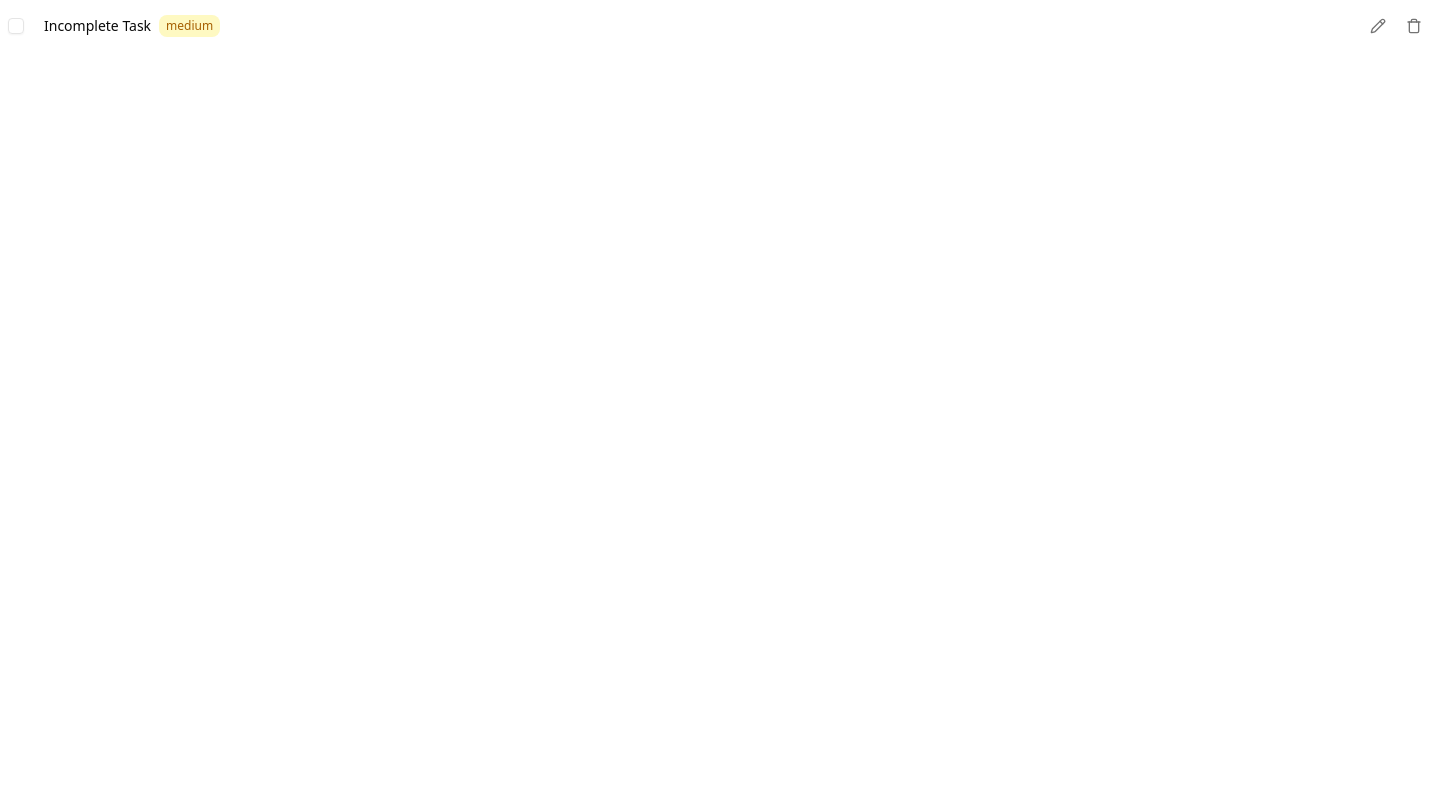
Test: TodoItem Component › Interaction › should open a confirmation dialog when delete button is clicked
# The delete button is clicked
Click the button with test id "delete-todo-trigger".
click(1414, 26)  # box [1396,8,1432,44]
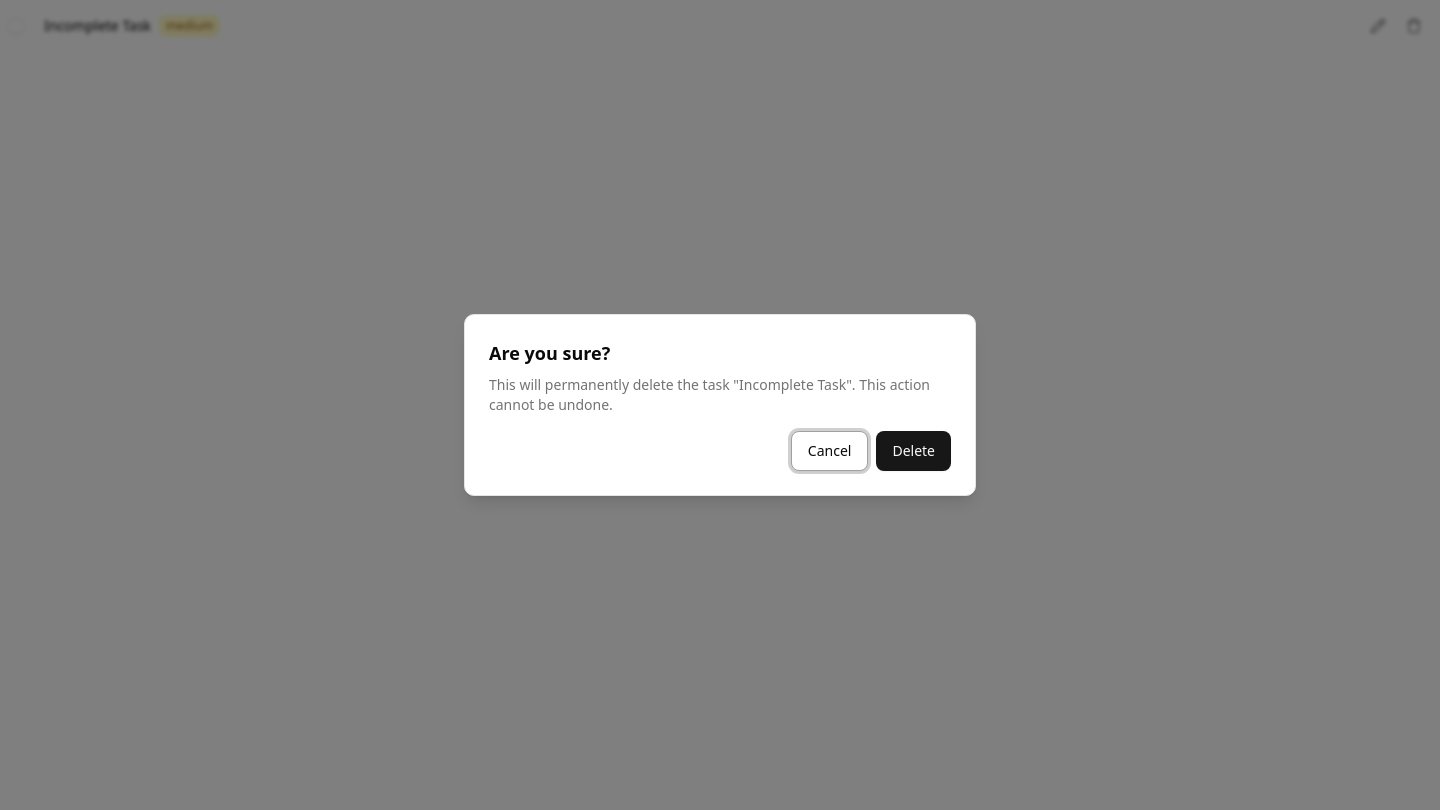
Result: the heading "Are you sure?" is shown at [489,341,610,365]
Result: the text "This will permanently delete the task" is shown at [489,375,739,394]
Result: the button "Cancel" is shown at [791,431,868,471]
